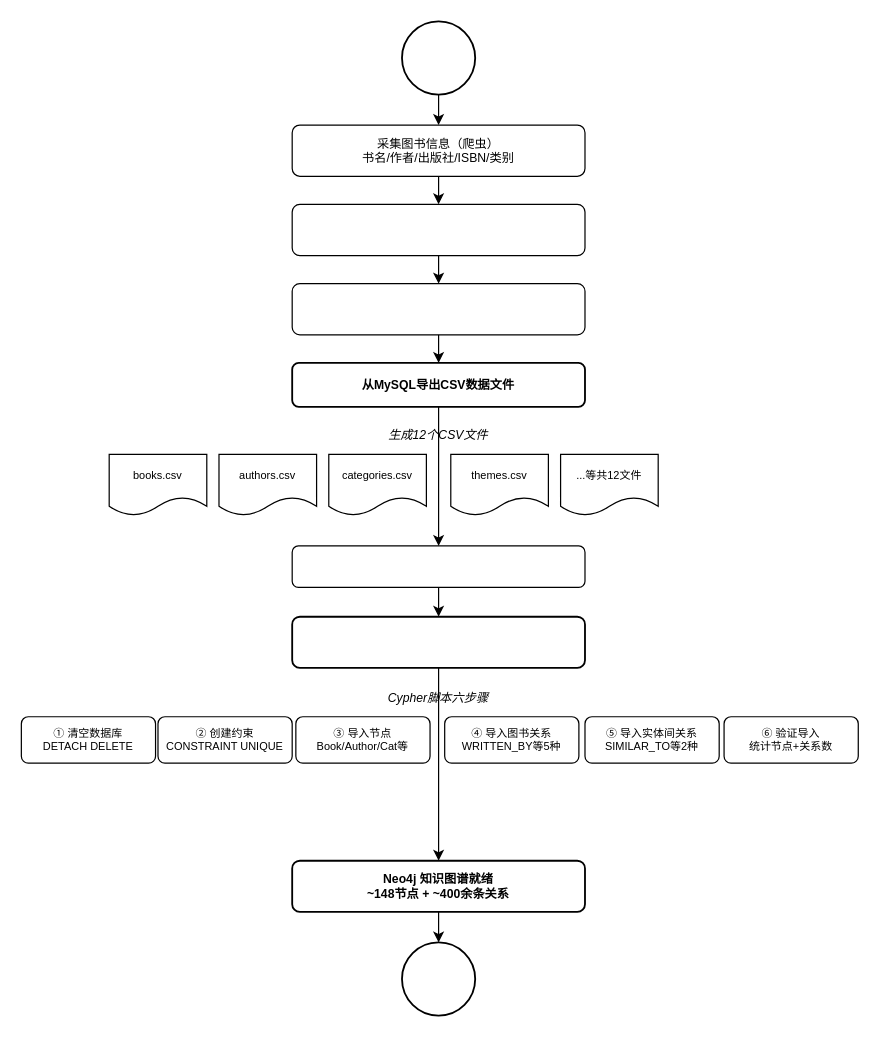
Some shapes in this 880 by 1038 pixel diagram are drawn without their labels. Here are the shapes that lost their labels. From the top down, the centre of each, then its label:
point (438, 57): 开始
point (438, 229): 导入MySQL kg_entity表 （6类实体定义）
point (438, 308): 导入MySQL book_entity关联表 book_id ↔ entity_id (5种关系类型)
point (438, 566): 复制CSV至 Neo4j import 目录
point (438, 641): 执行 import.cypher LOAD CSV + CREATE/MATCH
point (438, 978): 结束
